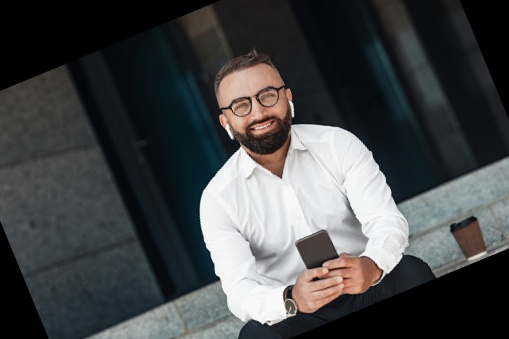earphone: (281, 87, 300, 113), (218, 112, 235, 137)
